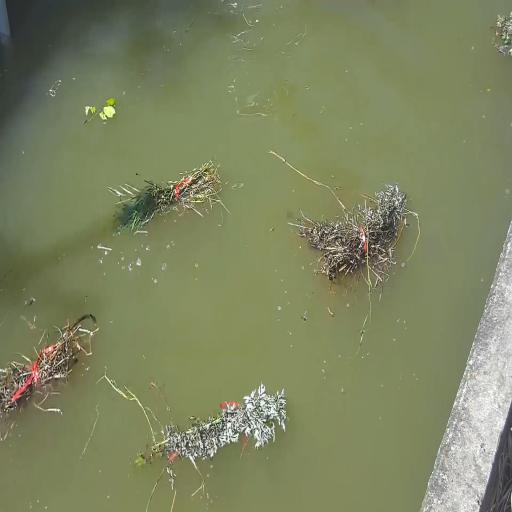twig: (135, 384, 289, 488), (304, 176, 424, 298), (3, 305, 82, 422), (112, 176, 226, 236), (81, 93, 120, 133), (493, 19, 512, 57)
